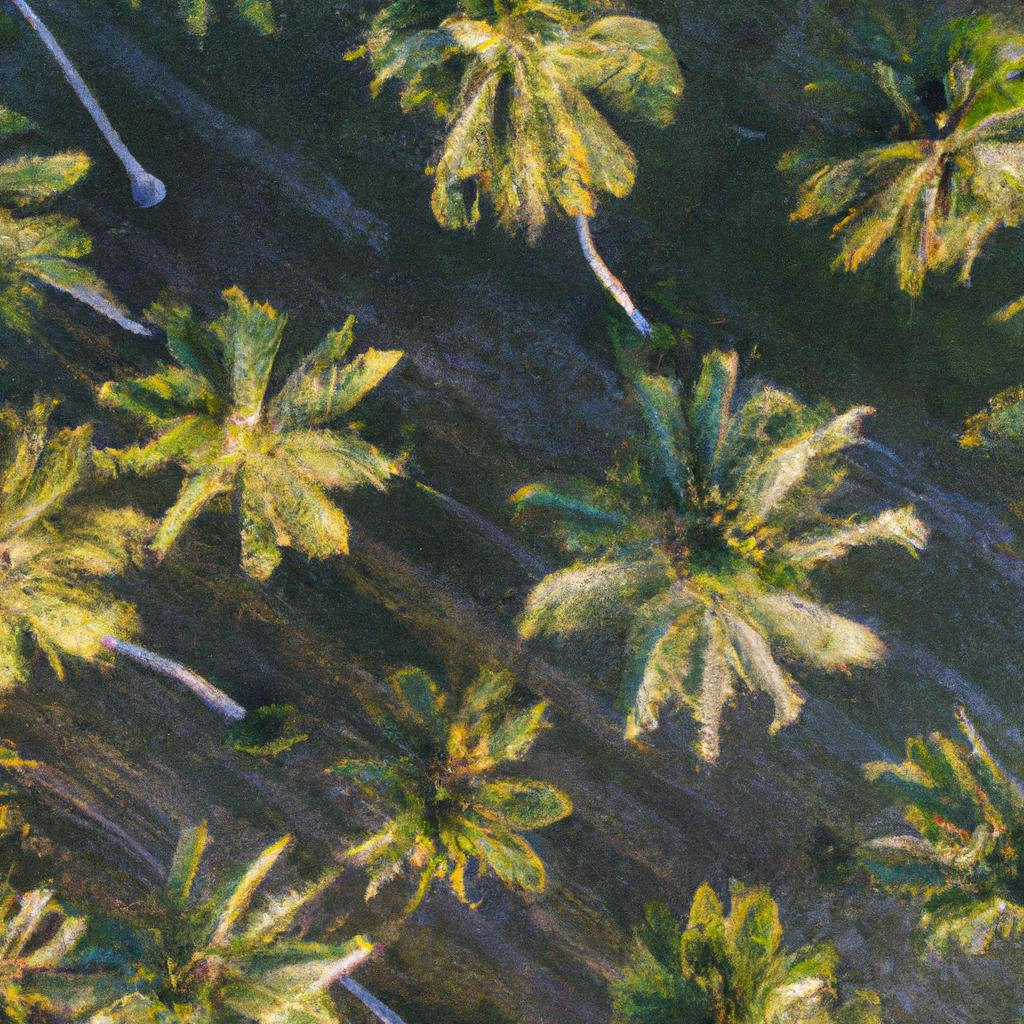coconut_tree: (441, 312, 933, 754), (81, 277, 447, 586), (324, 0, 670, 278), (295, 640, 644, 904)
